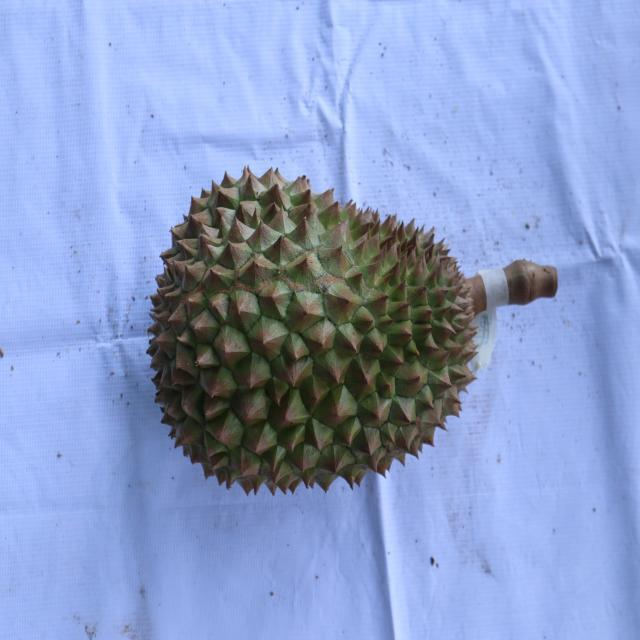mature: (147, 159, 479, 502)
